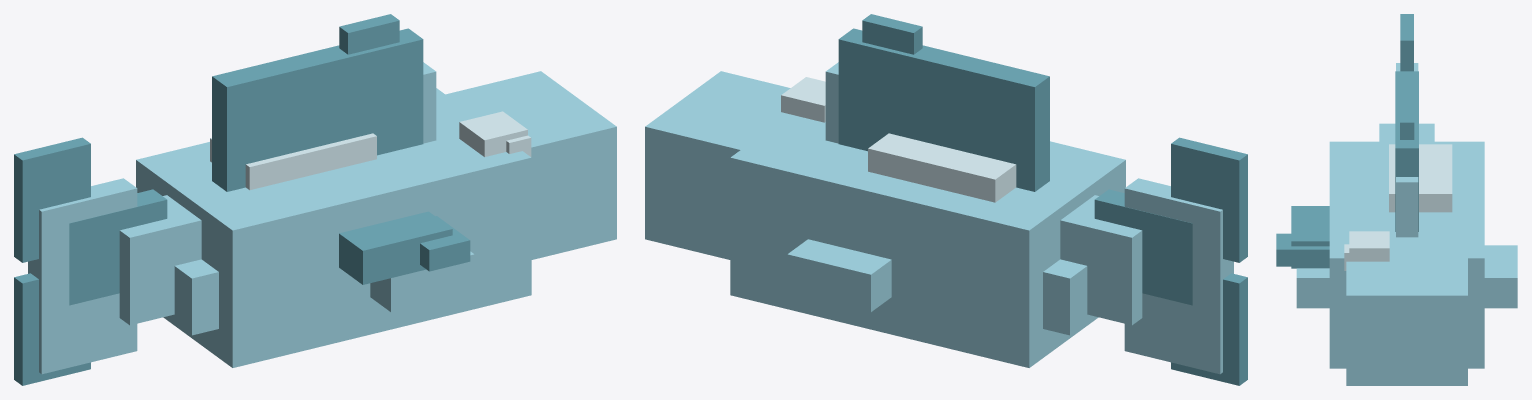
Rendered from fish_crystal_bream.glb.
3 views of the same model, side by side, from view 1: azimuth 30°, elevation 25°; view 2: azimuth 150°, elevation 25°; view 3: azimuth 270°, elevation 25° (orthographic). The views are drawn at different scales.
Visible parts, largest first — view 1: FishArt_body, FishArt_dorsal, FishArt_tail, FishArt_pectoral, FishArt_specialty, FishArt_eye; view 2: FishArt_body, FishArt_dorsal, FishArt_tail, FishArt_specialty, FishArt_eye; view 3: FishArt_body, FishArt_pectoral, FishArt_specialty, FishArt_dorsal, FishArt_eye, FishArt_tail.
Part boxes in pixels (x1,y1,x2,y2): FishArt_body: [28, 62, 616, 374]; FishArt_dorsal: [212, 14, 423, 191]; FishArt_tail: [14, 137, 167, 385]; FishArt_pectoral: [339, 211, 470, 284]; FishArt_specialty: [210, 133, 376, 190]; FishArt_eye: [459, 111, 531, 156]; FishArt_body: [645, 62, 1233, 374]; FishArt_dorsal: [838, 14, 1049, 191]; FishArt_tail: [1094, 137, 1247, 385]; FishArt_specialty: [868, 133, 1016, 202]; FishArt_eye: [781, 77, 825, 122]; FishArt_body: [1296, 63, 1517, 385]; FishArt_pectoral: [1276, 206, 1329, 268]; FishArt_specialty: [1389, 144, 1452, 212]; FishArt_dorsal: [1395, 71, 1418, 231]; FishArt_eye: [1344, 231, 1389, 270]; FishArt_tail: [1400, 14, 1413, 71].
Size of the model in its own units: 0.3091 by 0.1442 by 0.1439.
